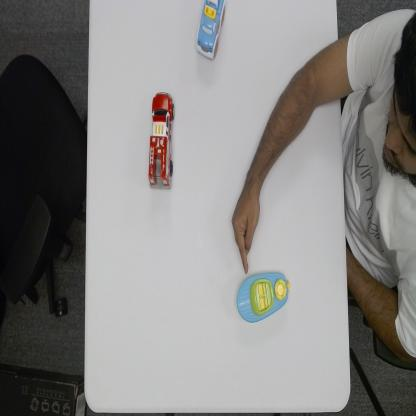Arm: (242, 45, 342, 189)
Boat: (236, 269, 292, 325)
Car: (195, 0, 226, 62)
Firetruck: (148, 90, 176, 192)
Hand: (231, 184, 261, 275)
